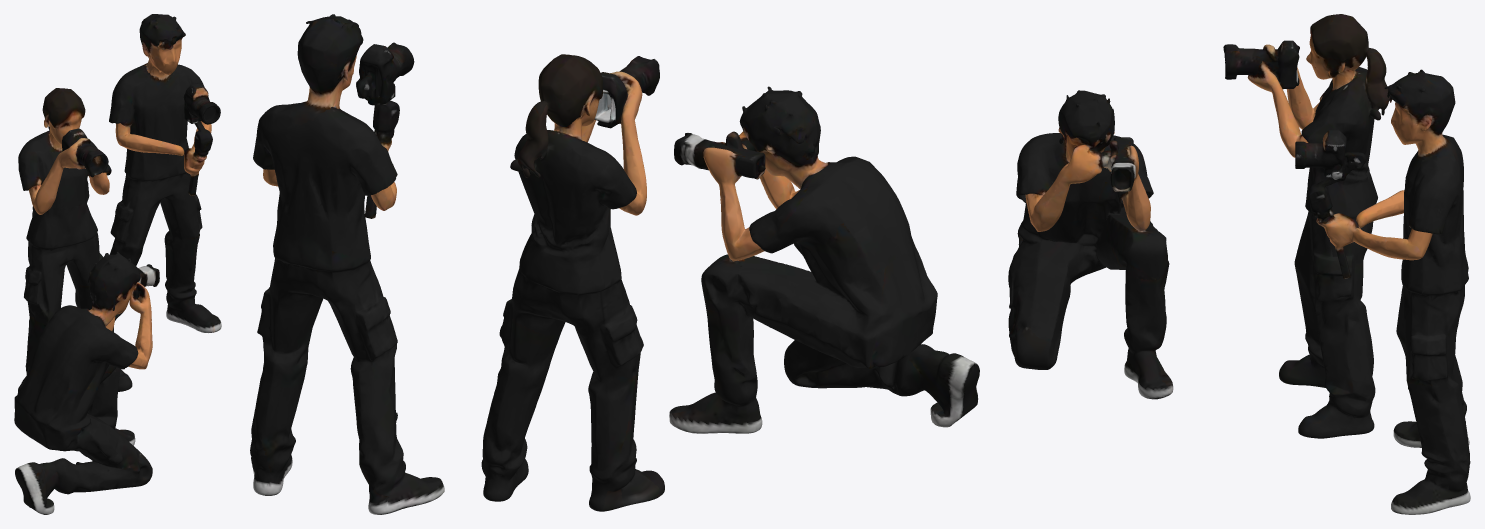
File: crew.glb
3 renders of one model, left to right at view 1: azimuth 30°, elevation 25°; view 2: azimuth 150°, elevation 25°; view 3: azimuth 270°, elevation 25°, orthographic. The views are drawn at different scales.
Parts seen in each view (by area): view 1: tripo_node_1c131b8c-253e-4123-8210-185f3c6cad16; view 2: tripo_node_1c131b8c-253e-4123-8210-185f3c6cad16; view 3: tripo_node_1c131b8c-253e-4123-8210-185f3c6cad16.
Part boxes in pixels (x1,y1,x2,y2): tripo_node_1c131b8c-253e-4123-8210-185f3c6cad16: [14, 14, 221, 514]; tripo_node_1c131b8c-253e-4123-8210-185f3c6cad16: [250, 14, 979, 514]; tripo_node_1c131b8c-253e-4123-8210-185f3c6cad16: [1008, 14, 1470, 514].
Bounding box in the file's own units: 0.9999 × 0.8961 × 0.907.
Materials: 1 (1 with a texture image).
